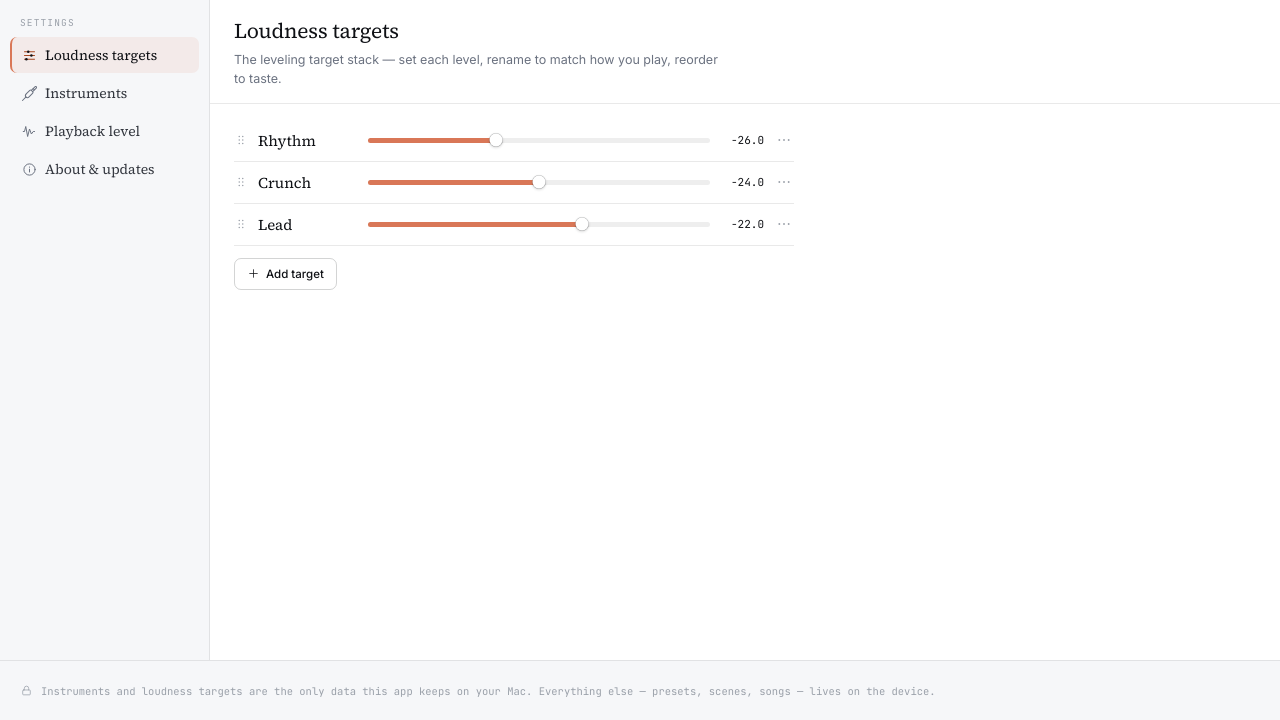
Test: SettingsView — app updates › renders the version readout, check button, and auto-install label
Expected: the text "Rhythm" is shown, [258,130,316,150]
Click the tab "About & updates".
click(88, 169)  # box [22,159,155,179]
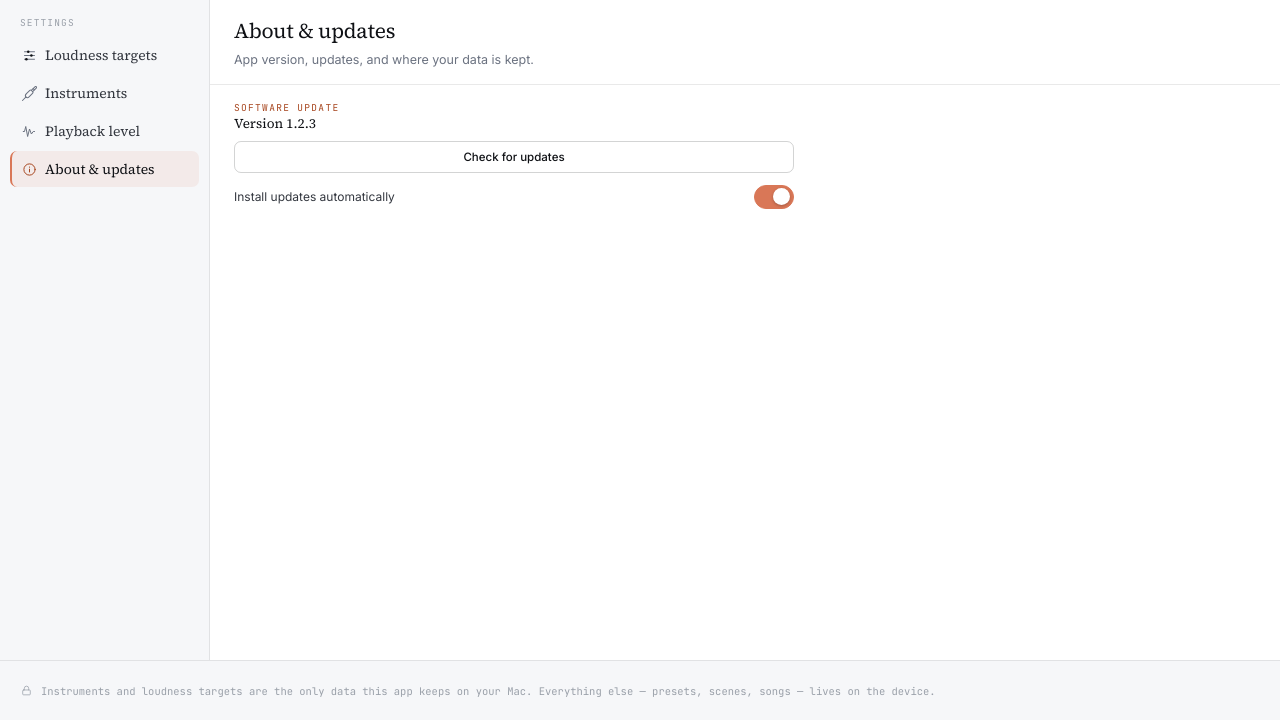
Now the text "Version 1.2.3" is shown, box [234,114,316,133]
Now the button "Check for updates" is shown, box [234,141,794,173]
Now the text "Install updates automatically" is shown, box [234,189,395,204]
